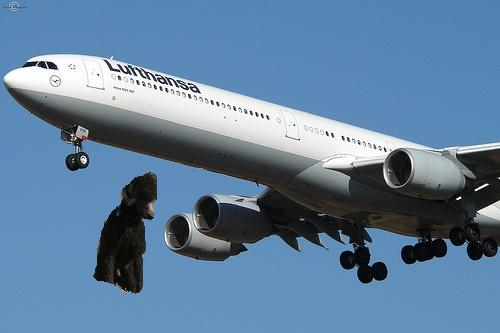tampered: (94, 173, 157, 294)
